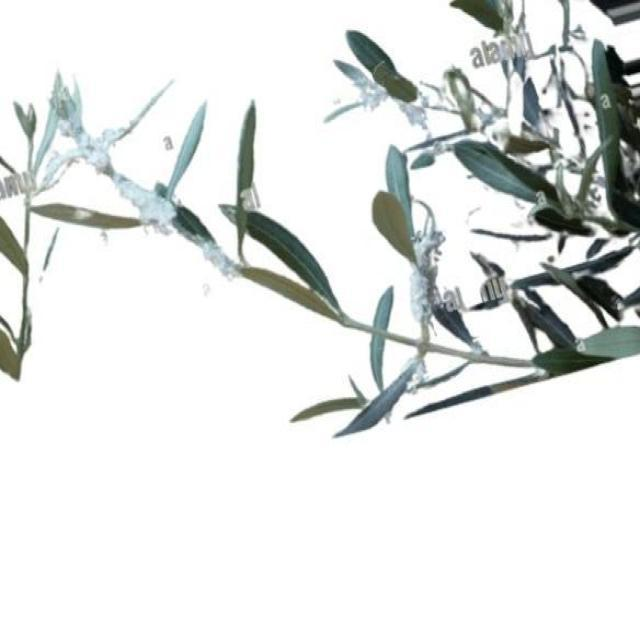Psyllid: (46, 81, 175, 231), (403, 209, 445, 393), (200, 228, 244, 280)
